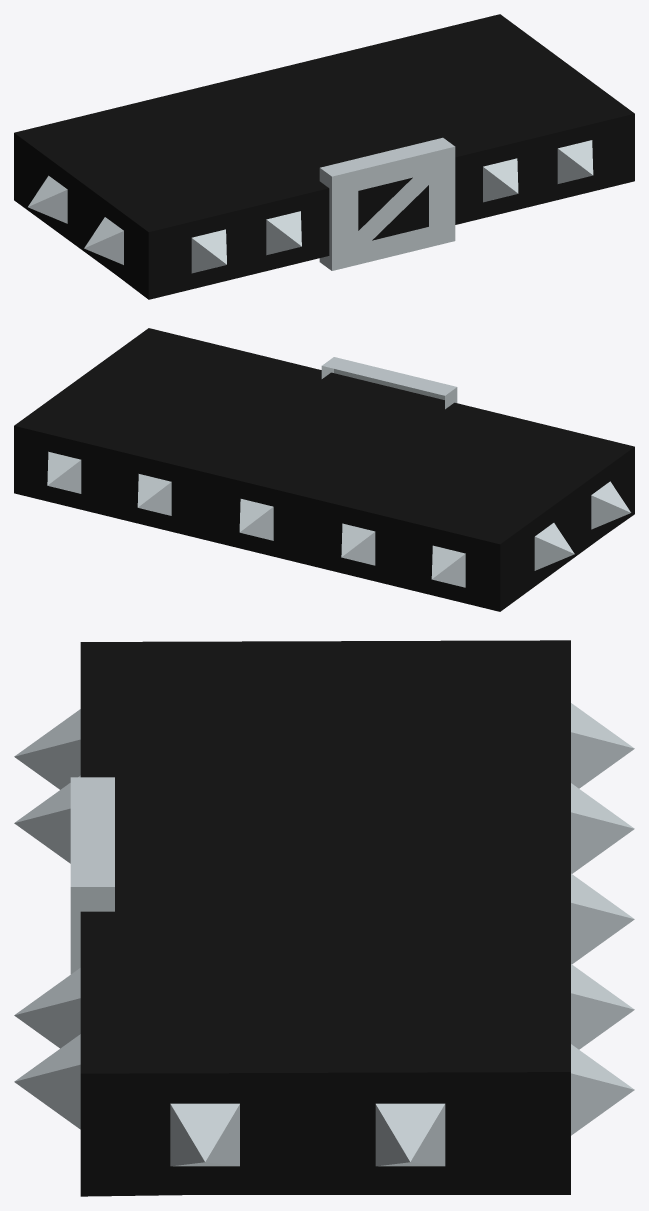
The model's file is Belt 02.FBX.
3 views of the same model, one above another, from view 1: azimuth 30°, elevation 25°; view 2: azimuth 150°, elevation 25°; view 3: azimuth 270°, elevation 25° (orthographic). The views are drawn at different scales.
Visible parts, largest first — view 1: Belt 02; view 2: Belt 02; view 3: Belt 02.
Part boxes in pixels (box(x1,y1,x2,y2)): Belt 02: box(14, 14, 634, 299); Belt 02: box(14, 328, 634, 611); Belt 02: box(14, 640, 634, 1196).
Size of the model in its own units: 56.5 by 9.32 by 30.52.
Materials: 1 (1 with a texture image).
